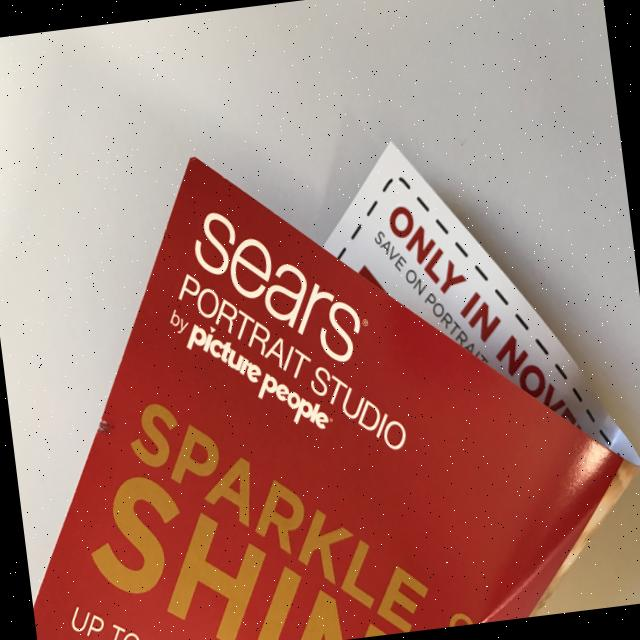paper: (0, 104, 640, 640)
